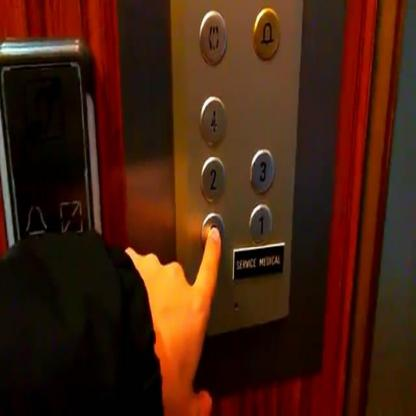1: (247, 202, 276, 251)
2: (199, 152, 226, 209)
3: (247, 147, 276, 197)
4: (197, 90, 229, 150)
alarm: (252, 4, 283, 64), (19, 197, 52, 244)
open: (197, 7, 228, 68)
